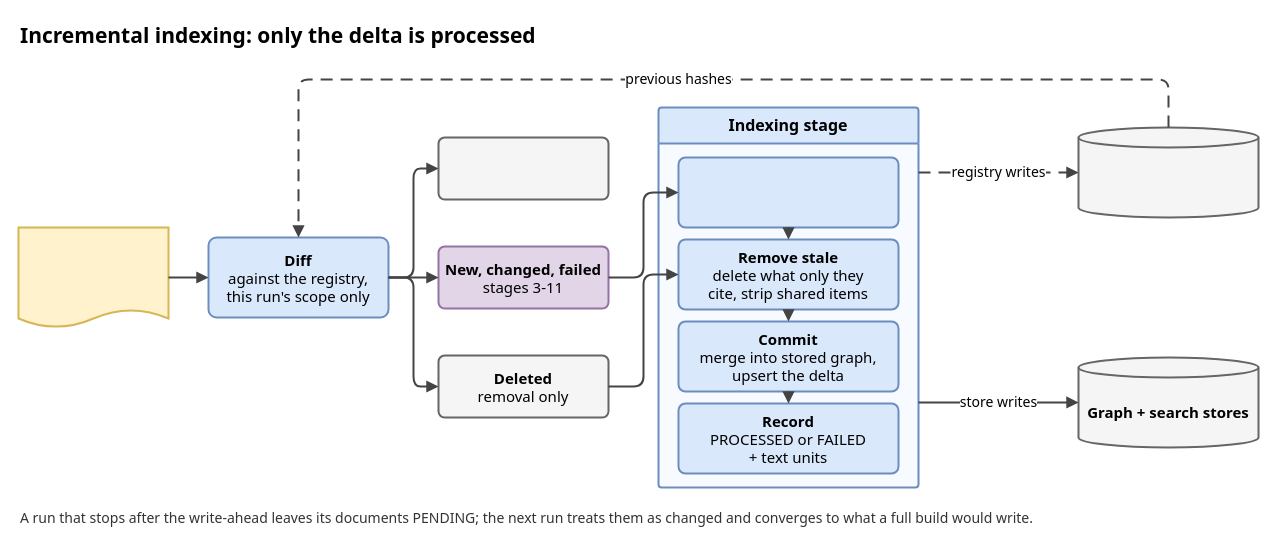
Some shapes in this 1276 by 550 pixel diagram are drawn without their labels. The box of each missing label's shape, as (x1, y1, x2, y2) in pixels:
Corpus doc id + content hash: (17, 226, 169, 328)
Doc-status registry DynamoDB or SQLite: (1077, 126, 1259, 218)
Unchanged skipped: (437, 136, 609, 200)
Write ahead mark PENDING with planned text units: (677, 156, 899, 228)
